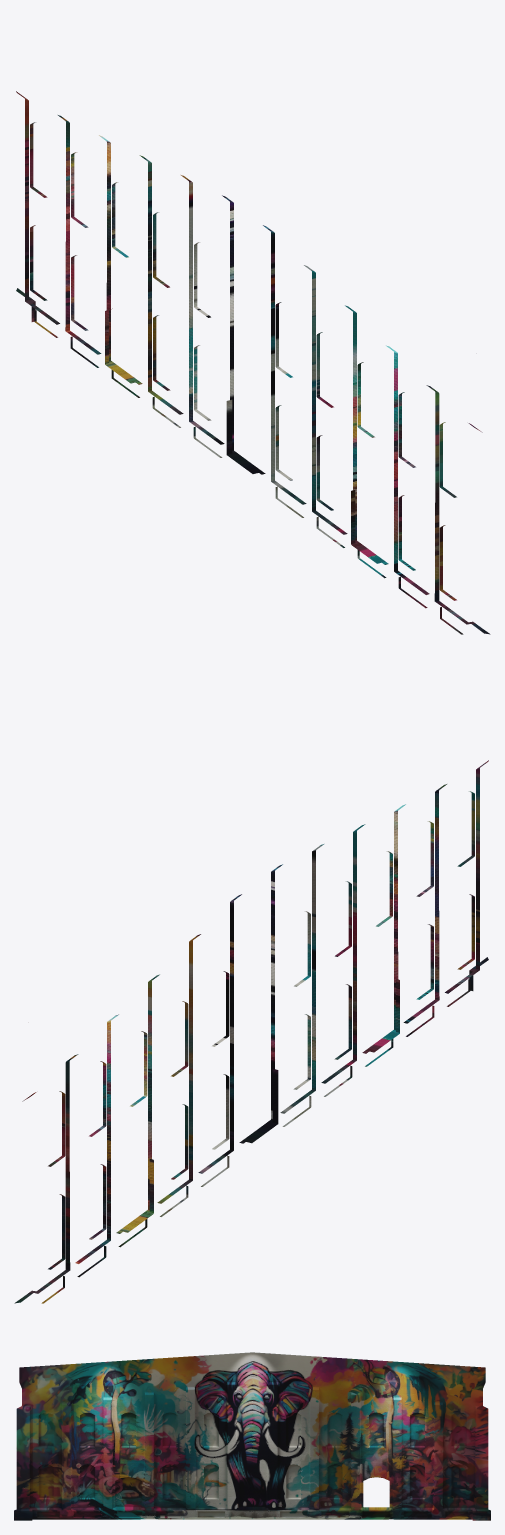
The model's file is frontwall.glb.
The picture shows the model from 3 angles, top to bottom: view 1: azimuth 30°, elevation 25°; view 2: azimuth 150°, elevation 25°; view 3: azimuth 270°, elevation 25°; orthographic projection. The views are drawn at different scales.
Visible parts, largest first — view 1: FrontWall.Right, FrontWall.Left; view 2: FrontWall.Left, FrontWall.Right; view 3: FrontWall.Left, FrontWall.Right.
Part boxes in pixels (<box>): FrontWall.Right: <box>16,91,249,464</box>; FrontWall.Left: <box>240,225,490,634</box>; FrontWall.Left: <box>255,760,488,1133</box>; FrontWall.Right: <box>14,894,264,1303</box>; FrontWall.Left: <box>14,1352,252,1520</box>; FrontWall.Right: <box>252,1352,490,1520</box>.
Size of the model in its own units: 1.49 by 32.05 by 83.4.
Materials: 2 (2 with a texture image).
